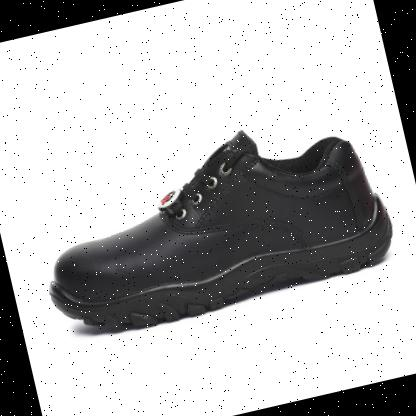bota: (18, 95, 410, 353)
